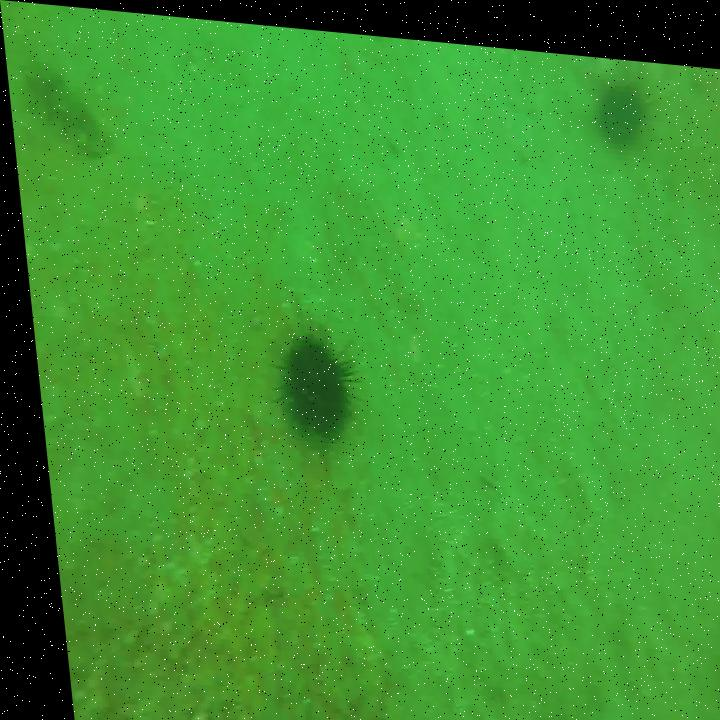echinus: (267, 323, 353, 441), (595, 64, 651, 136)
holothurian: (21, 60, 113, 155)
